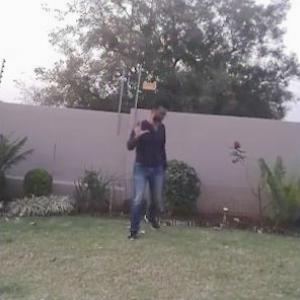follow_hand: (130, 113, 150, 140)
